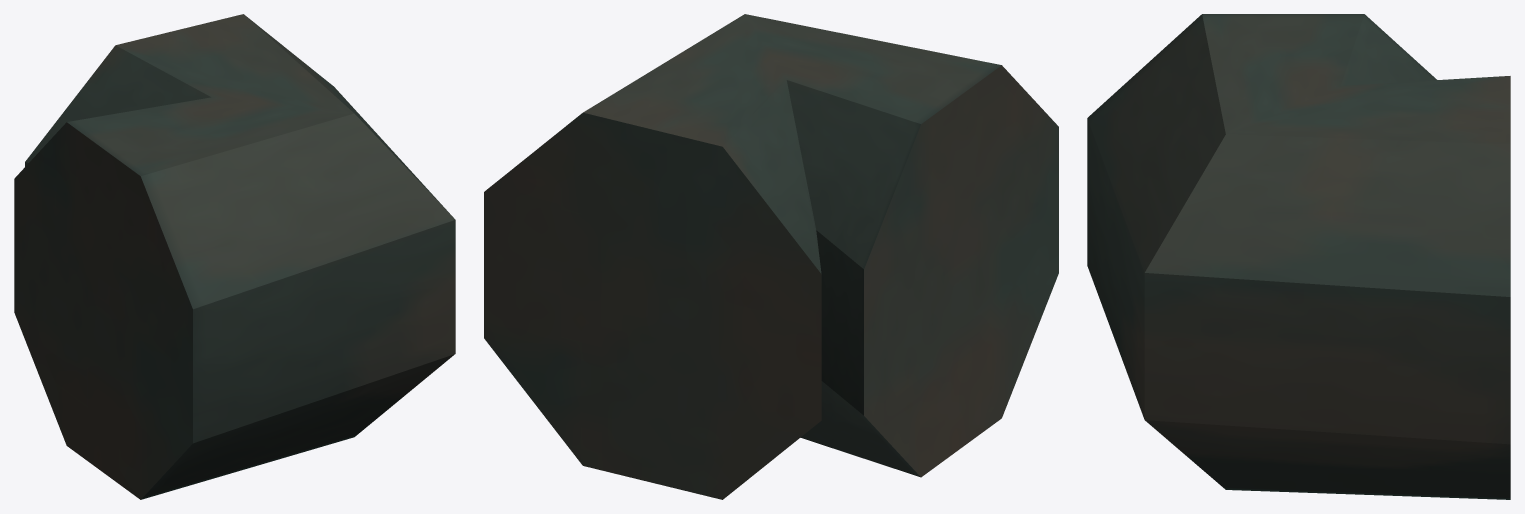
File: SM_MachProp_PipeRun_Elbow_30x30x30.fbx
The picture shows the model from 3 angles, left to right: view 1: azimuth 30°, elevation 25°; view 2: azimuth 150°, elevation 25°; view 3: azimuth 270°, elevation 25°; orthographic projection. The views are drawn at different scales.
Visible parts, largest first — view 1: SM_MachProp_PipeRun_Elbow_30x30x30.001; view 2: SM_MachProp_PipeRun_Elbow_30x30x30.001; view 3: SM_MachProp_PipeRun_Elbow_30x30x30.001.
Boxes of the visible parts, box(x1,y1,x2,y2) form: SM_MachProp_PipeRun_Elbow_30x30x30.001: box(14, 14, 455, 499); SM_MachProp_PipeRun_Elbow_30x30x30.001: box(484, 14, 1058, 499); SM_MachProp_PipeRun_Elbow_30x30x30.001: box(1087, 14, 1510, 499).
Bounding box in the file's own units: 0.2793 × 0.2587 × 0.2793.
